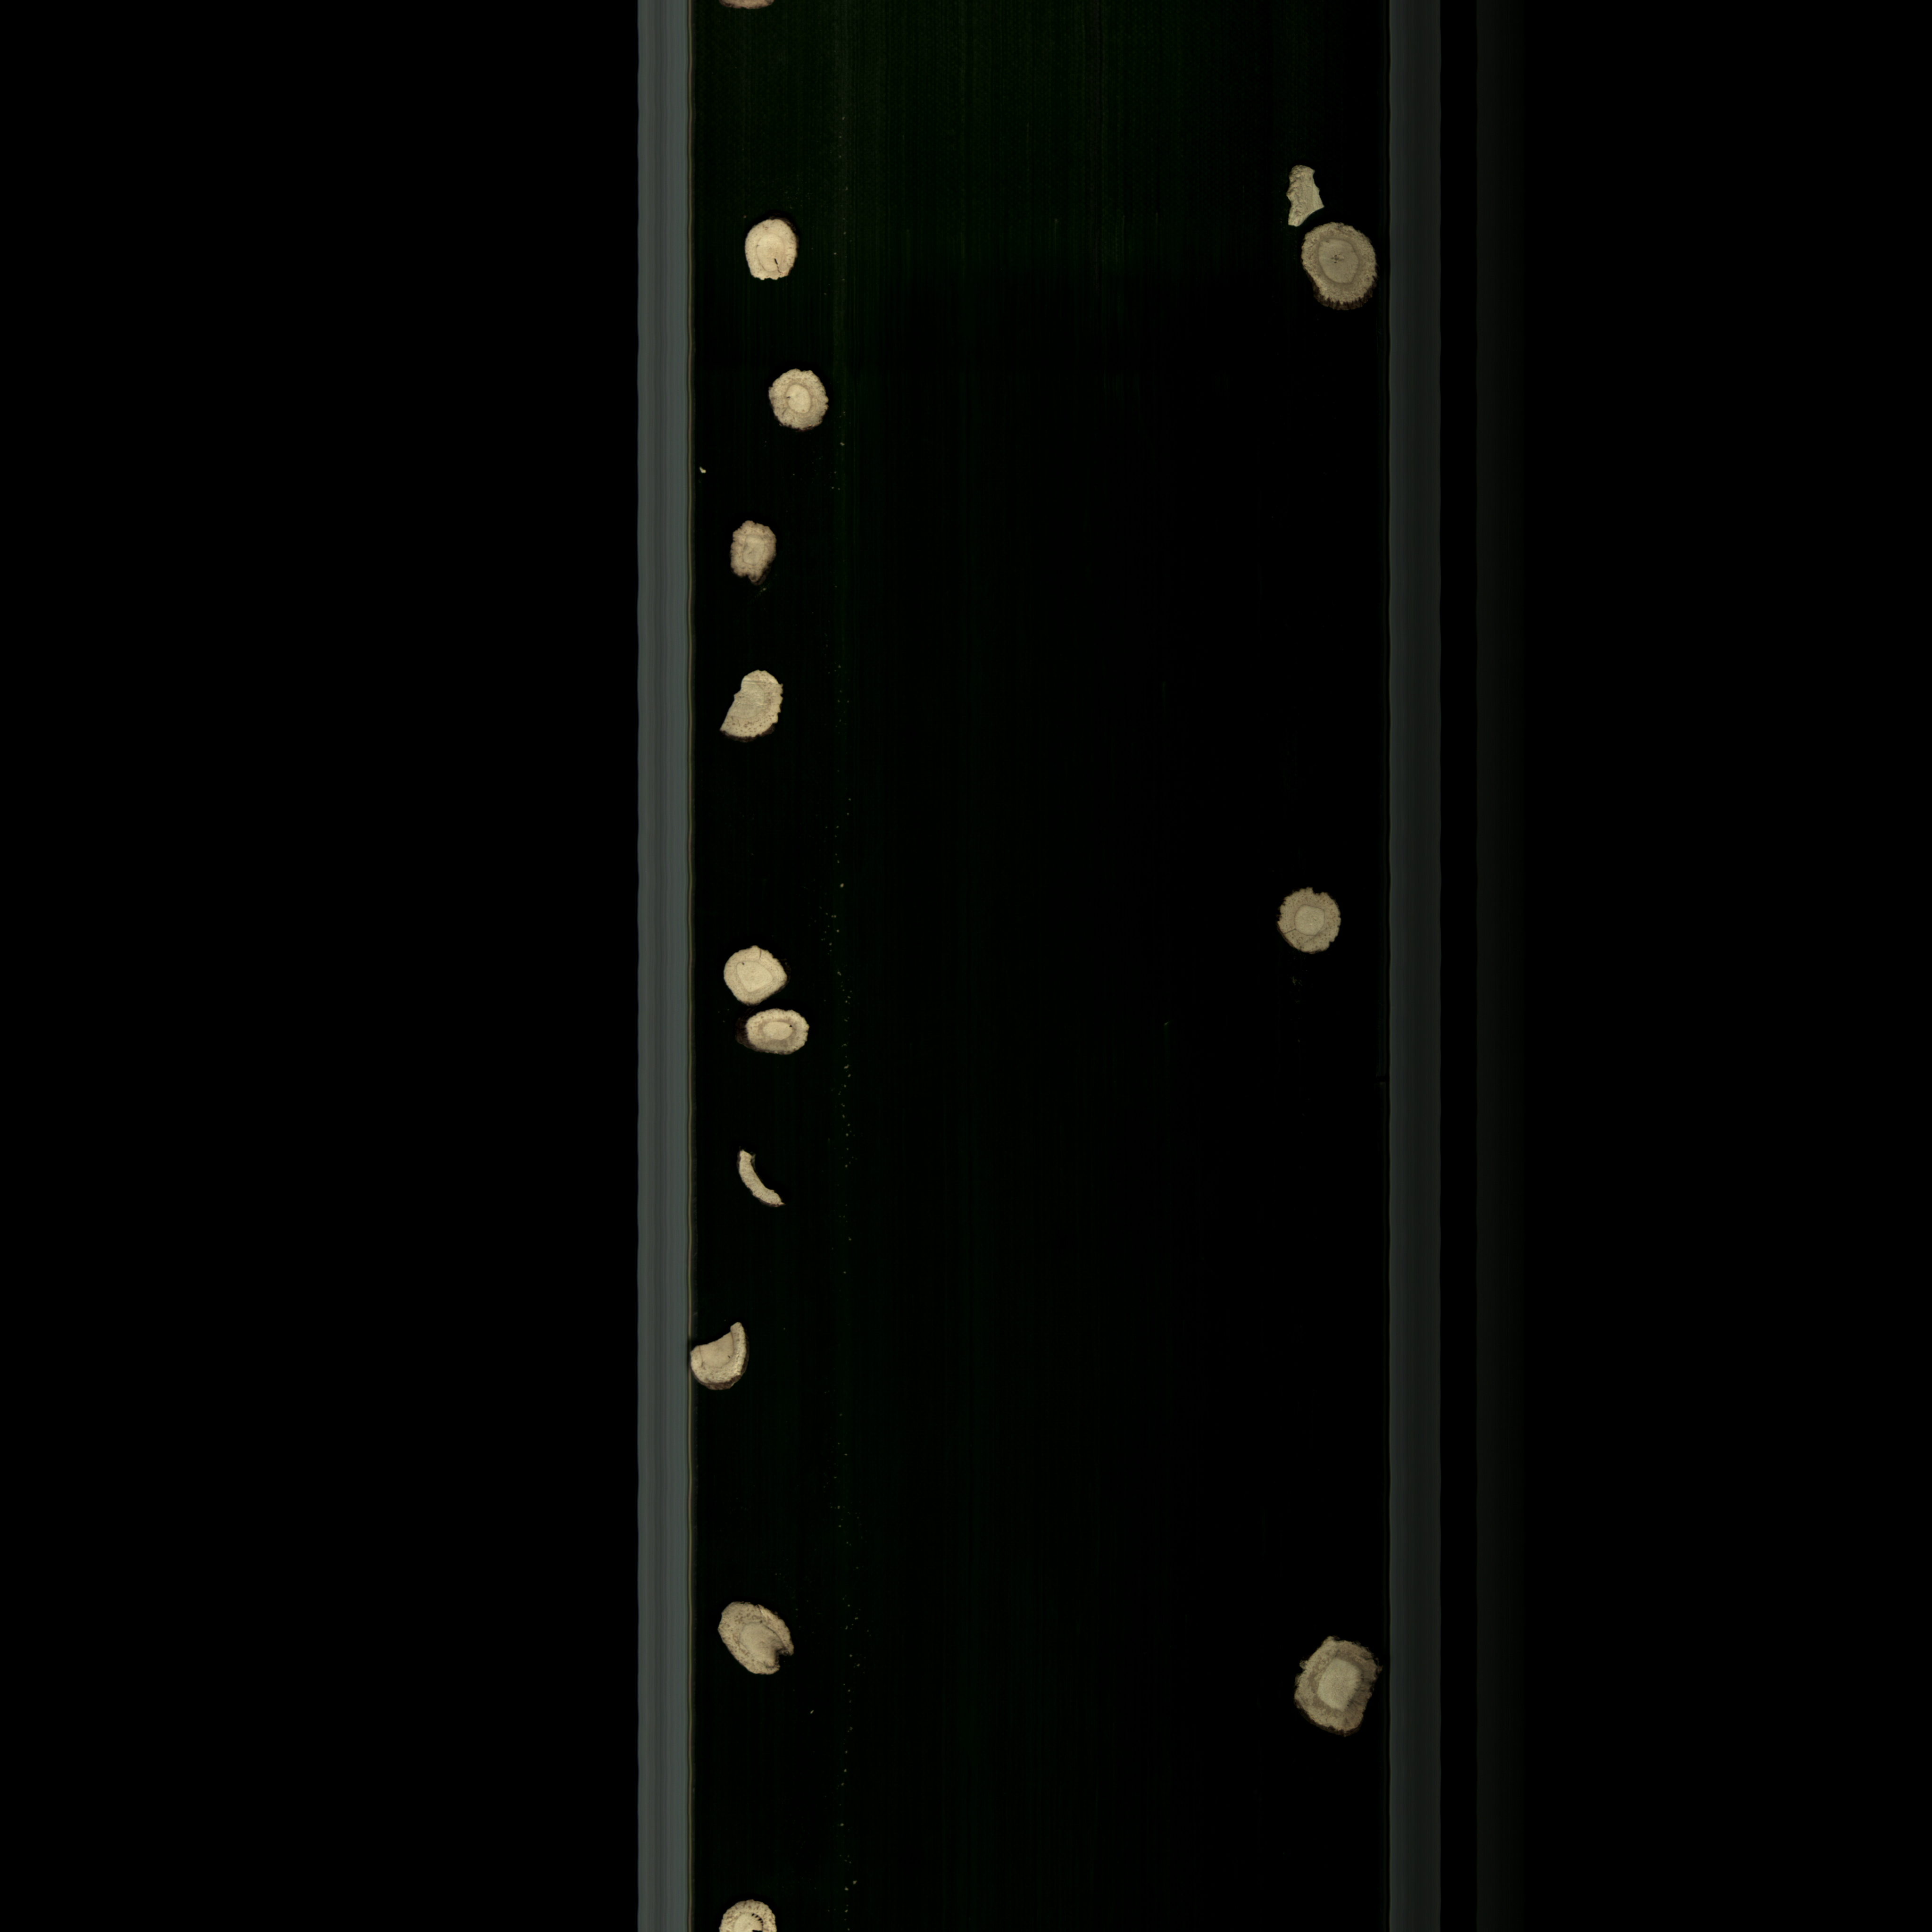debris: (702, 1594, 812, 1691), (709, 665, 800, 745), (686, 1309, 761, 1401), (1270, 156, 1336, 230)
distortion: (1270, 883, 1353, 962), (727, 1141, 800, 1219), (720, 517, 786, 591), (740, 1007, 817, 1062)
hole: (736, 216, 803, 288)
moldy: (1276, 1621, 1384, 1750), (1297, 218, 1380, 326)
